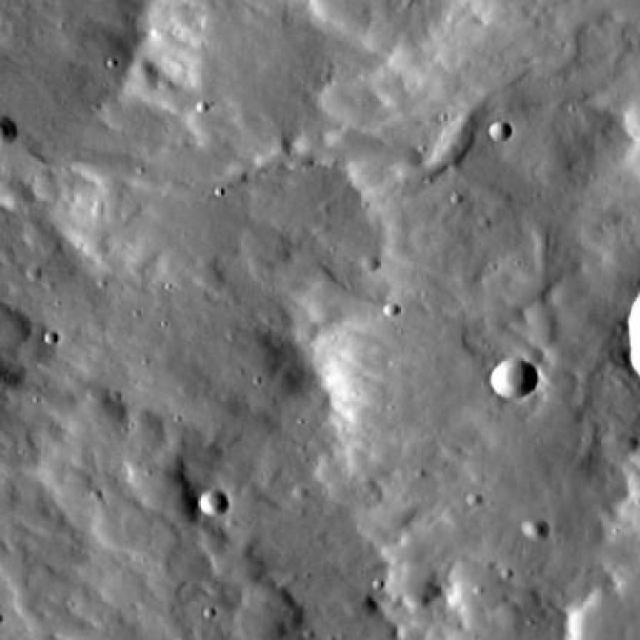crater: (493, 361, 539, 401), (197, 491, 226, 517), (488, 122, 512, 143), (522, 523, 544, 543), (383, 302, 400, 318)
